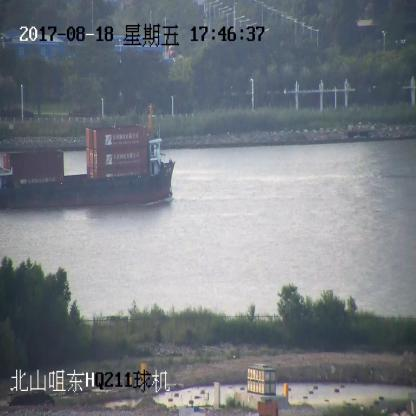Container Ship: (0, 103, 175, 205)
